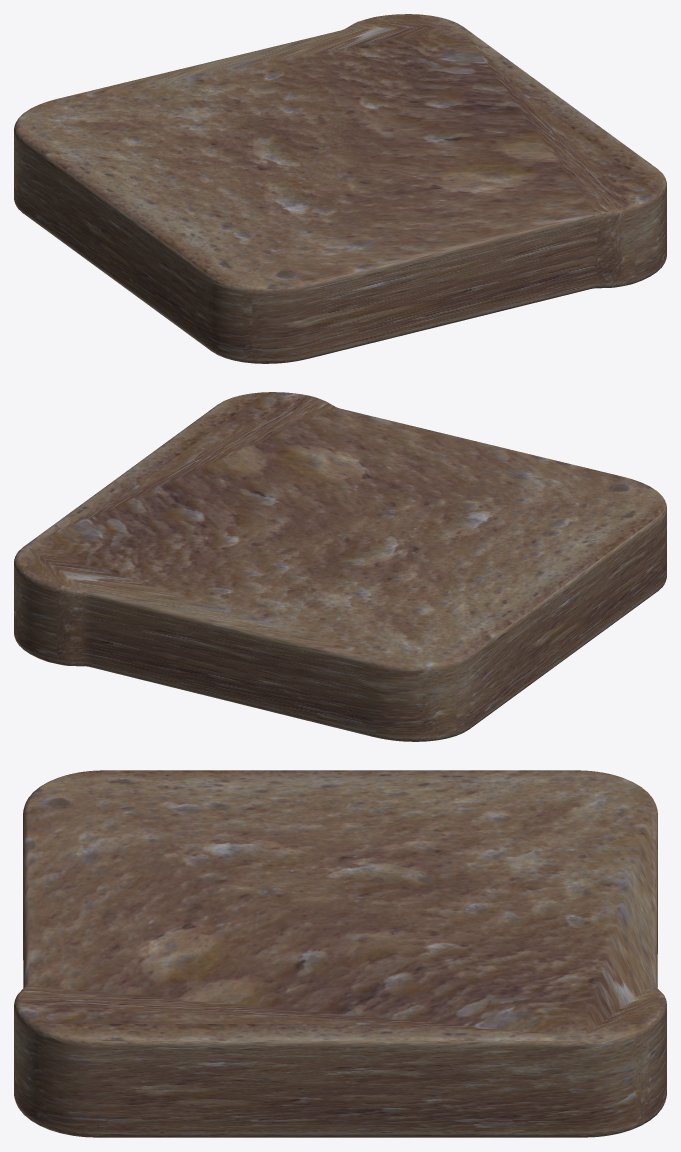
File: 写真トースト.fbx
3 renders of one model, top to bottom at view 1: azimuth 30°, elevation 25°; view 2: azimuth 150°, elevation 25°; view 3: azimuth 270°, elevation 25°, orthographic. The views are drawn at different scales.
Visible parts, largest first — view 1: Cube.005; view 2: Cube.005; view 3: Cube.005.
Boxes of the visible parts, <box> form: Cube.005: <box>14,14,666,363</box>; Cube.005: <box>14,392,666,741</box>; Cube.005: <box>14,770,666,1137</box>.
Bounding box in the file's own units: 407 × 69.6 × 411.
